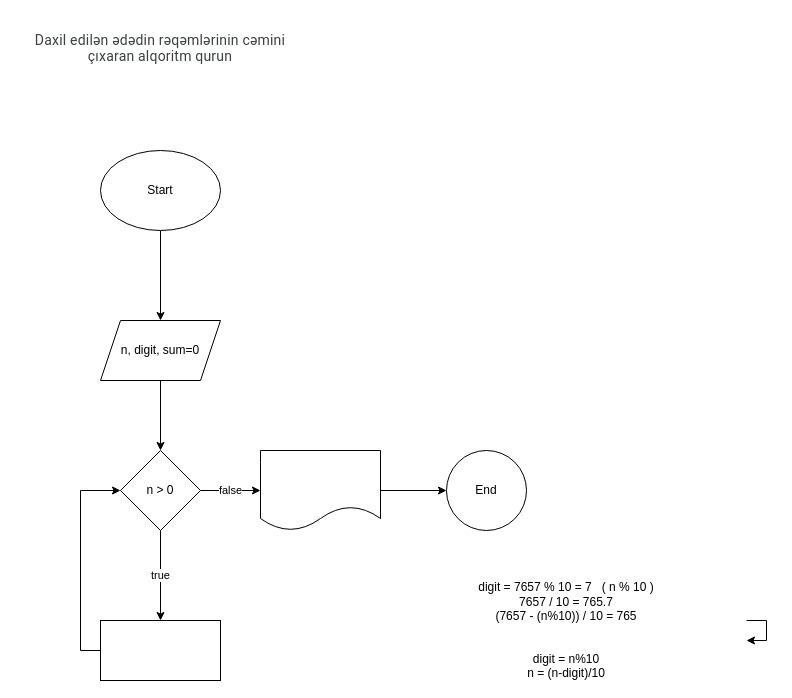
This 792x698 diagram has some shape labels left out. Here are the shapes that lost their labels. From the top down, the box of each, then its label:
(260, 450, 380, 530): sum
(100, 620, 220, 680): digit = n%10 n = (n-digit)/10 sum += digit
